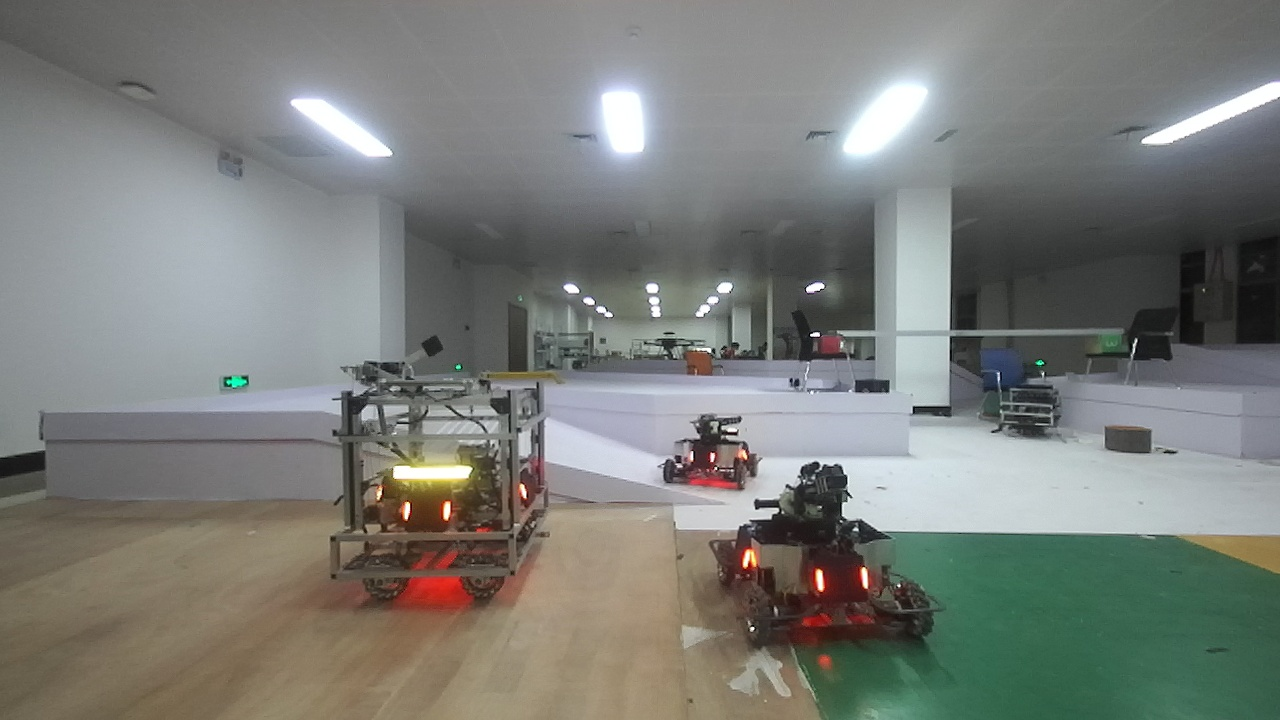car: (317, 362, 546, 603), (693, 449, 944, 649), (662, 408, 766, 499)
